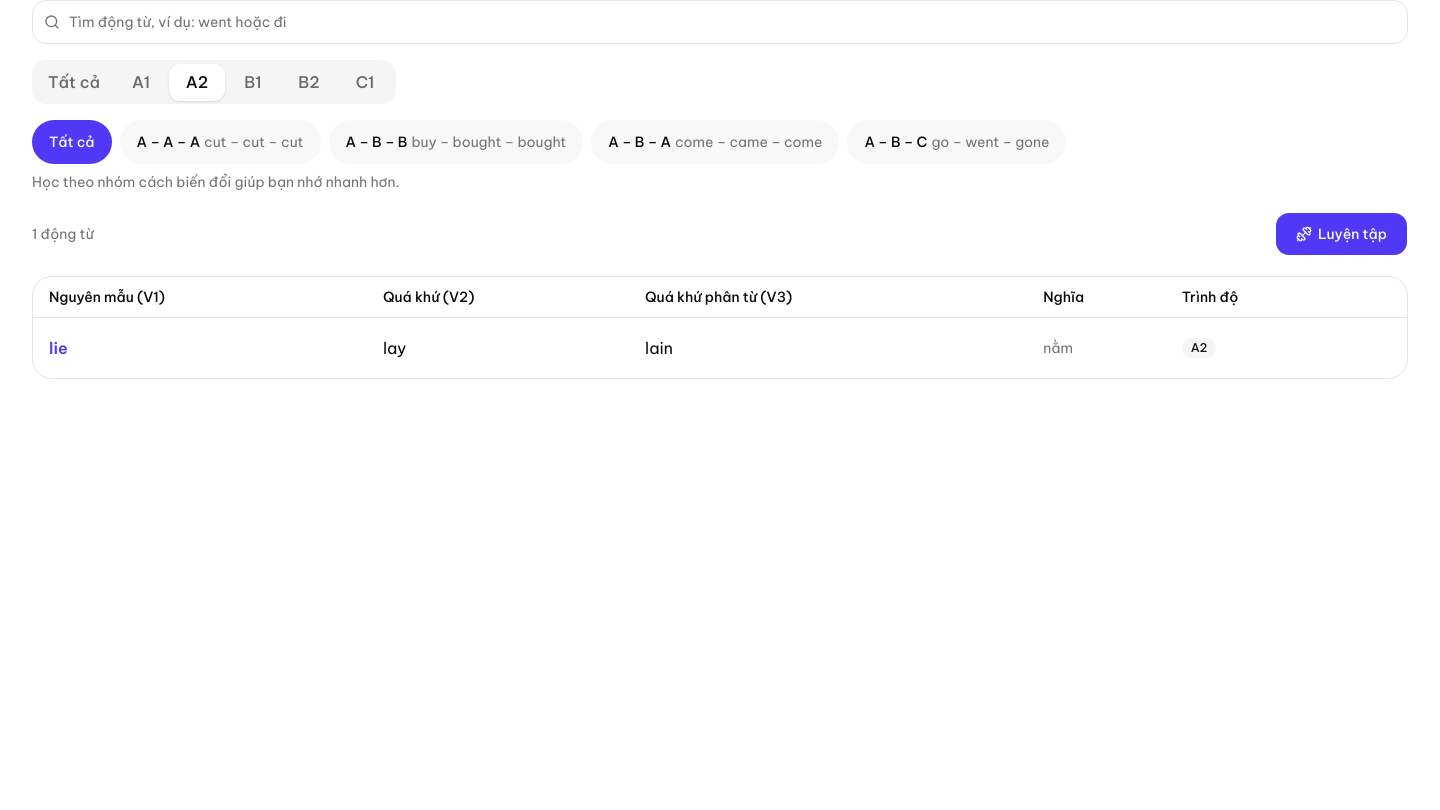
Test: VerbsBrowser › practises the verbs shown, in focus mode (AC-007)
The image size is (1440, 810).
Click the button "Luyện tập".
click(1341, 234)  # box [1275, 212, 1408, 256]
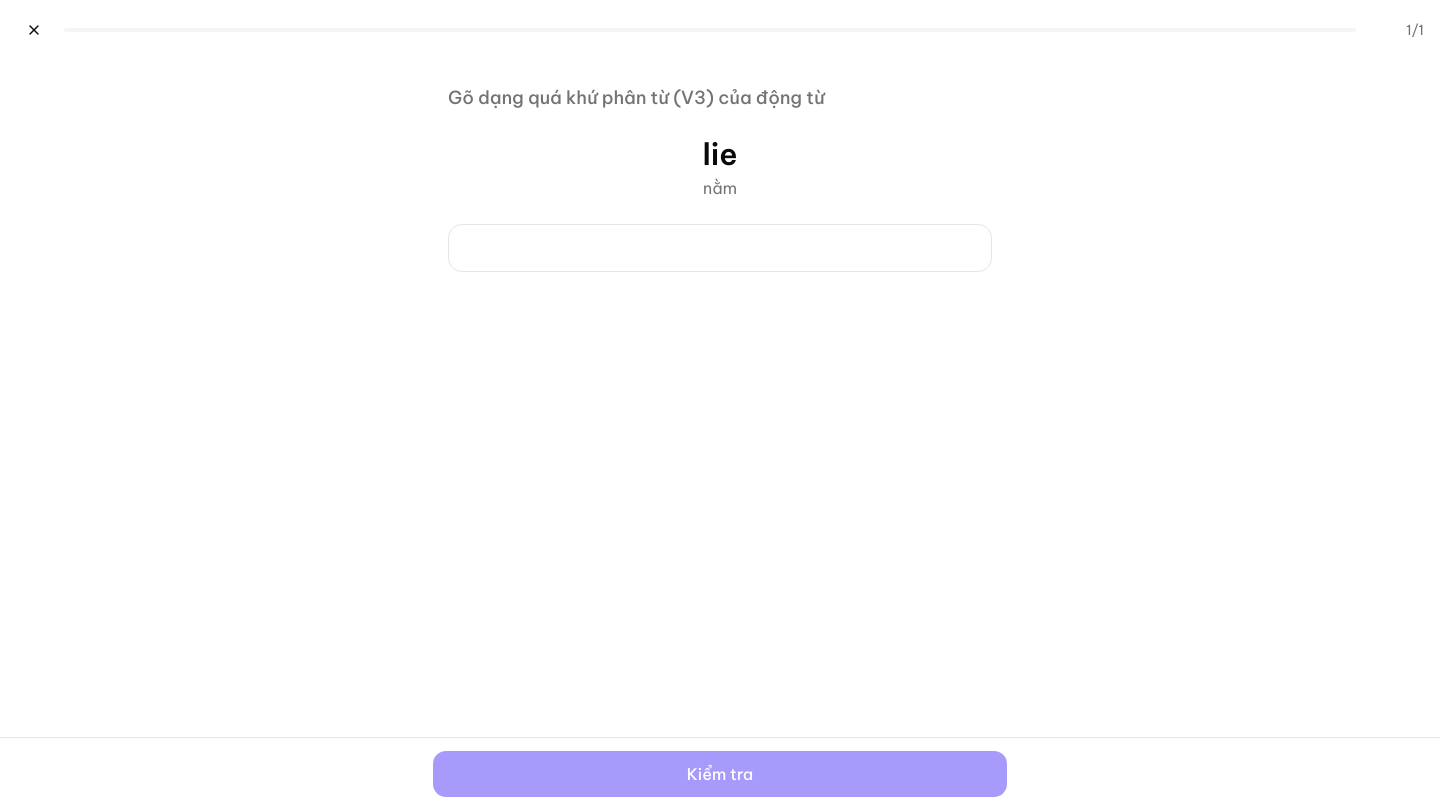
Expected: the text "1/1" is shown, [1406, 21, 1424, 39]
